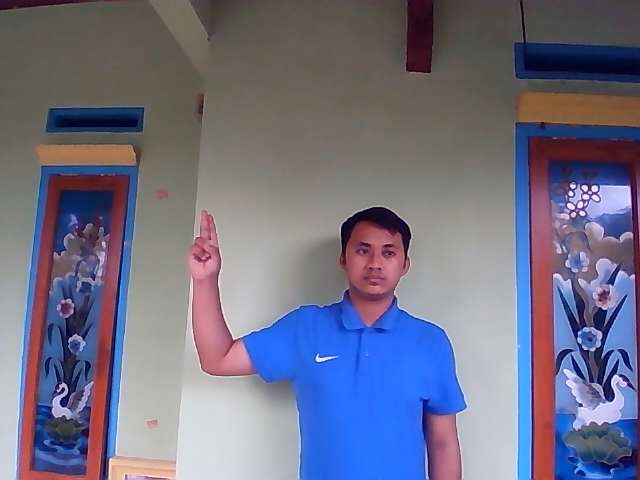U: (188, 208, 222, 277)
